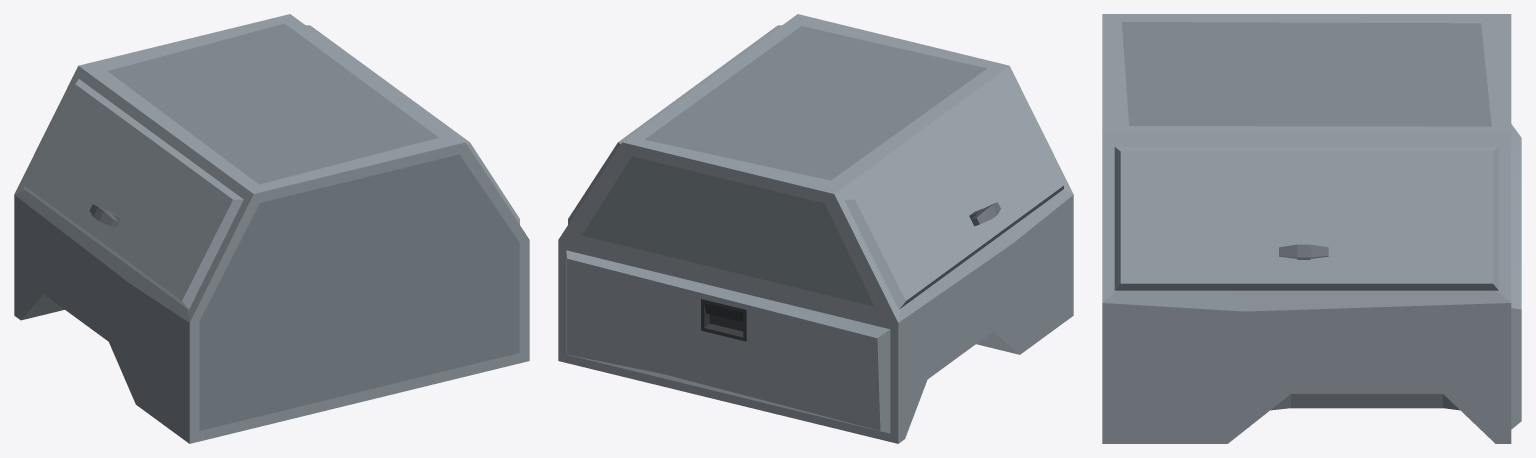
Rendered from SM_Veh_Pickup_01_ToolBox.glb.
3 renders of one model, left to right at view 1: azimuth 30°, elevation 25°; view 2: azimuth 150°, elevation 25°; view 3: azimuth 270°, elevation 25°, orthographic. The views are drawn at different scales.
Parts seen in each view (by area): view 1: SM_Veh_Pickup_01_ToolBox; view 2: SM_Veh_Pickup_01_ToolBox; view 3: SM_Veh_Pickup_01_ToolBox.
Boxes of the visible parts, x1=… form: SM_Veh_Pickup_01_ToolBox: x1=14, y1=14, x2=529, y2=443; SM_Veh_Pickup_01_ToolBox: x1=558, y1=14, x2=1073, y2=443; SM_Veh_Pickup_01_ToolBox: x1=1102, y1=14, x2=1521, y2=443.
Bounding box in the file's own units: 1.83 × 1.16 × 1.61.
1 material, 1 textured.
